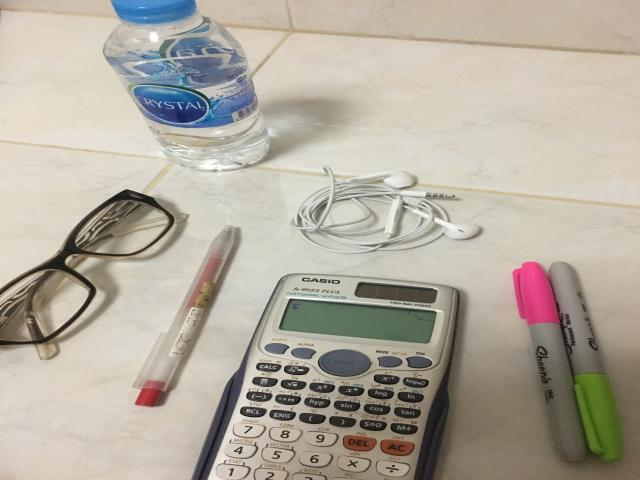Glasses: (0, 190, 175, 357)
Pen: (133, 226, 235, 407), (513, 262, 587, 461), (548, 262, 622, 461)
bottle: (103, 0, 270, 171)
wire: (292, 166, 480, 253)
